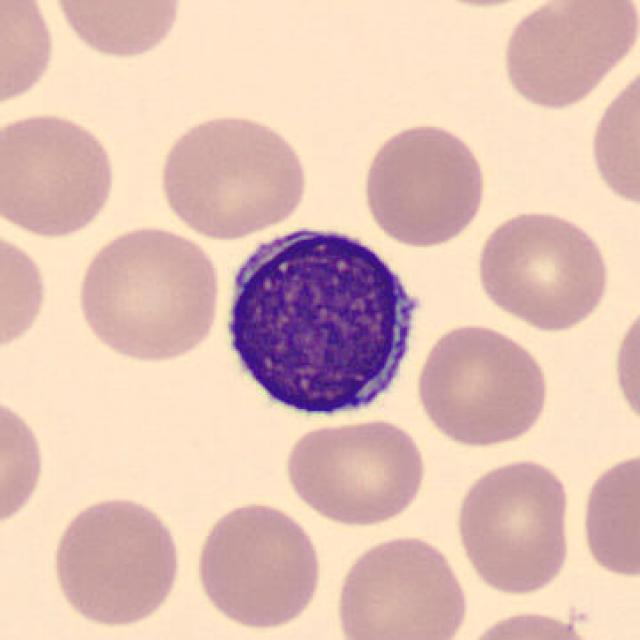Lymphocyte: (212, 212, 430, 428)
RBC: (71, 222, 224, 365), (155, 108, 313, 242), (46, 492, 185, 629), (190, 497, 326, 633), (412, 319, 553, 450), (471, 205, 613, 333), (452, 455, 576, 598), (357, 118, 491, 250), (281, 414, 430, 529), (0, 108, 121, 240), (496, 0, 638, 111), (332, 530, 472, 640), (45, 0, 186, 62), (585, 58, 640, 212), (578, 446, 638, 582), (0, 390, 48, 534), (0, 222, 50, 358), (0, 0, 59, 115), (455, 606, 604, 640), (608, 296, 640, 437)
